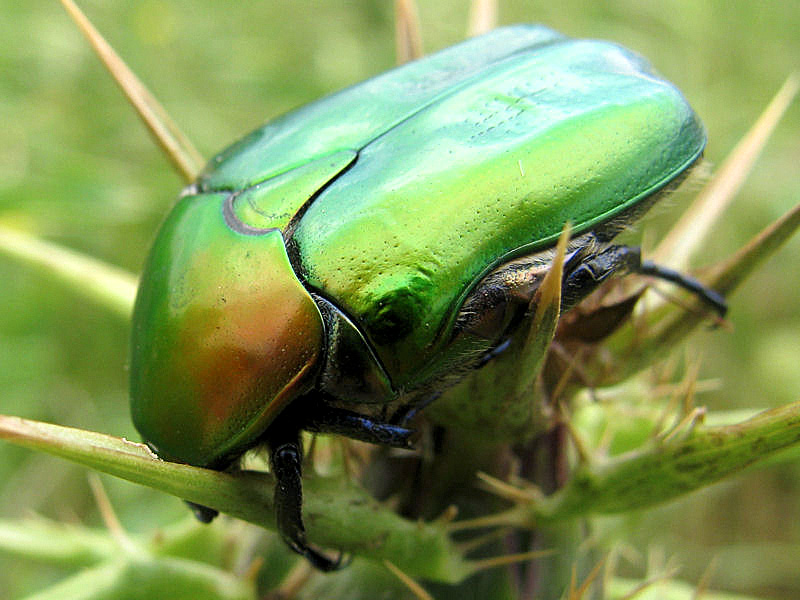Protaetia_cuprea_ignicollis: (116, 20, 731, 579)
